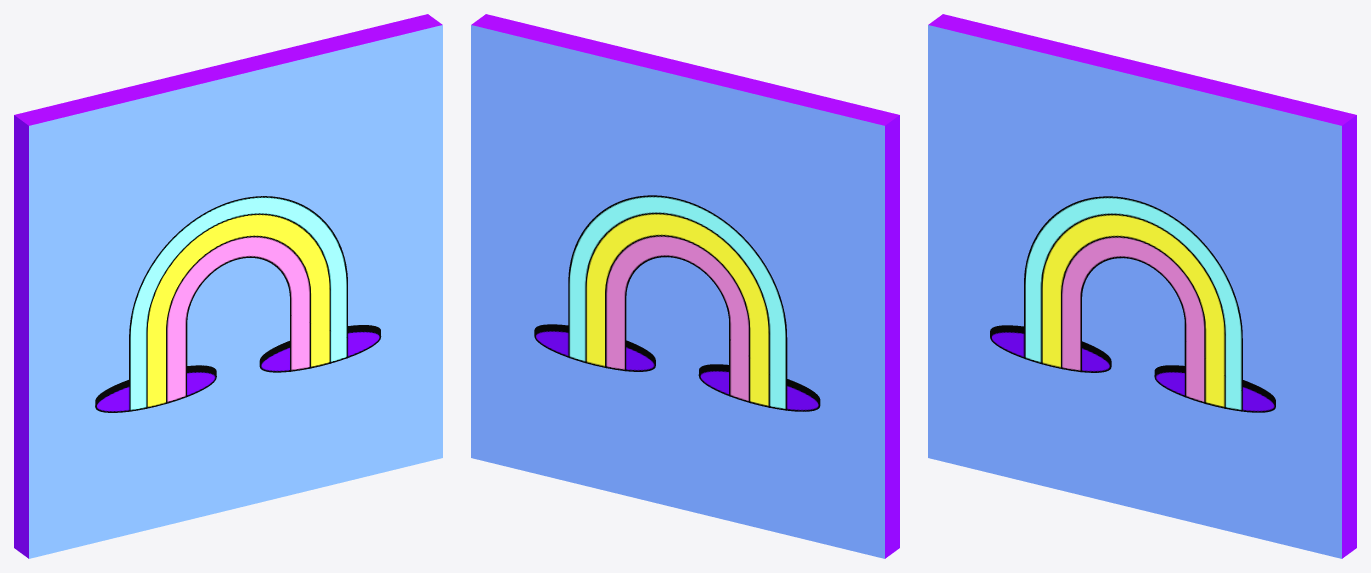
File: cocobay_wall2.gltf
The picture shows the model from 3 angles, left to right: view 1: azimuth 30°, elevation 25°; view 2: azimuth 150°, elevation 25°; view 3: azimuth 330°, elevation 25°; orthographic projection.
Visible parts, largest first — view 1: cocobay_wall2_glb; view 2: cocobay_wall2_glb; view 3: cocobay_wall2_glb.
Part boxes in pixels (x1,y1,x2,y2): cocobay_wall2_glb: [14, 14, 442, 558]; cocobay_wall2_glb: [471, 14, 899, 558]; cocobay_wall2_glb: [928, 14, 1356, 558].
Size of what is drawn, in the model's own units: 4 by 4 by 0.2995.
2 materials, 2 textured.
